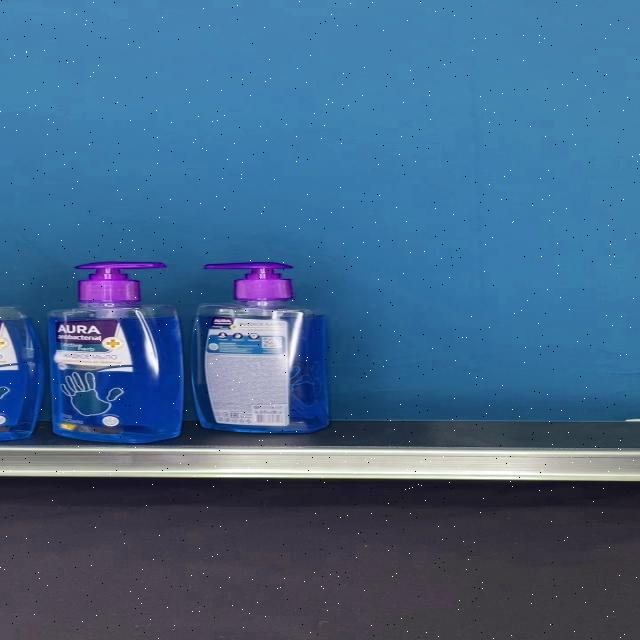Bottle: (46, 262, 183, 444), (190, 262, 330, 433)
Cap: (202, 263, 294, 303), (75, 262, 166, 302)
